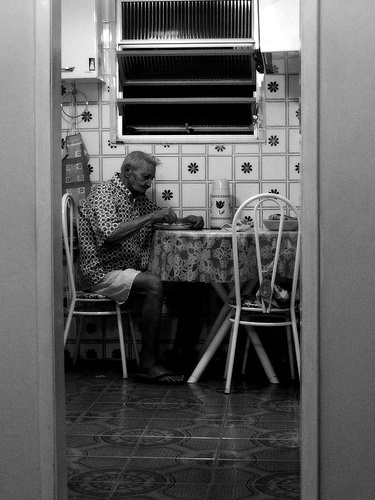head: (120, 151, 162, 195)
person: (75, 151, 188, 381)
